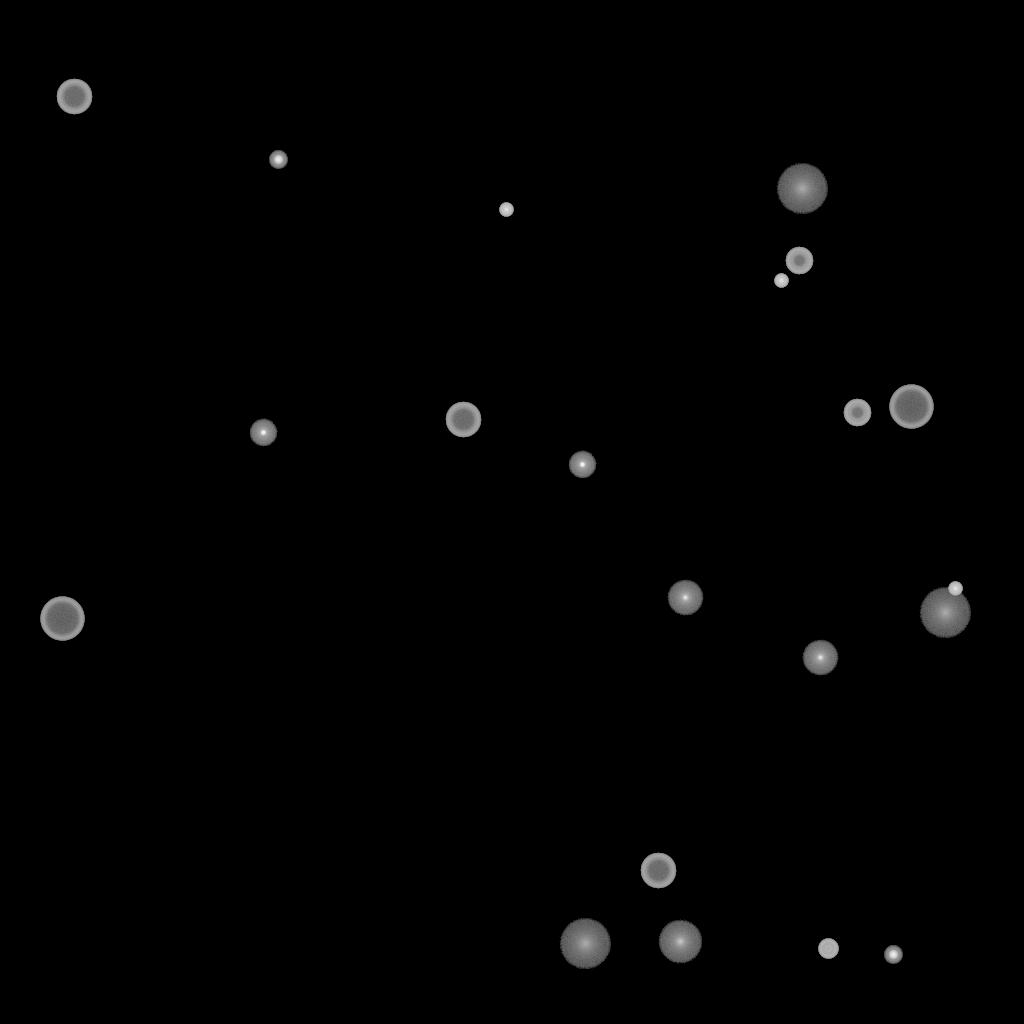depth:-10: (568, 451, 596, 479), (249, 419, 277, 447)
depth:-20: (884, 946, 902, 964), (269, 151, 287, 169)
depth:-30: (499, 203, 513, 217), (948, 582, 962, 596), (774, 274, 788, 288)
depth:-40: (818, 939, 838, 959)
depth:-50: (843, 399, 871, 427), (785, 247, 813, 275)
depth:-60: (640, 853, 676, 889), (445, 402, 481, 438), (56, 79, 92, 115)
depth:-70: (40, 597, 84, 641), (889, 385, 933, 429)
depth:0: (802, 640, 838, 676), (667, 580, 703, 616)
depth:10: (658, 920, 702, 964)
depth:20: (559, 919, 611, 969), (776, 164, 828, 214), (919, 588, 971, 638)
